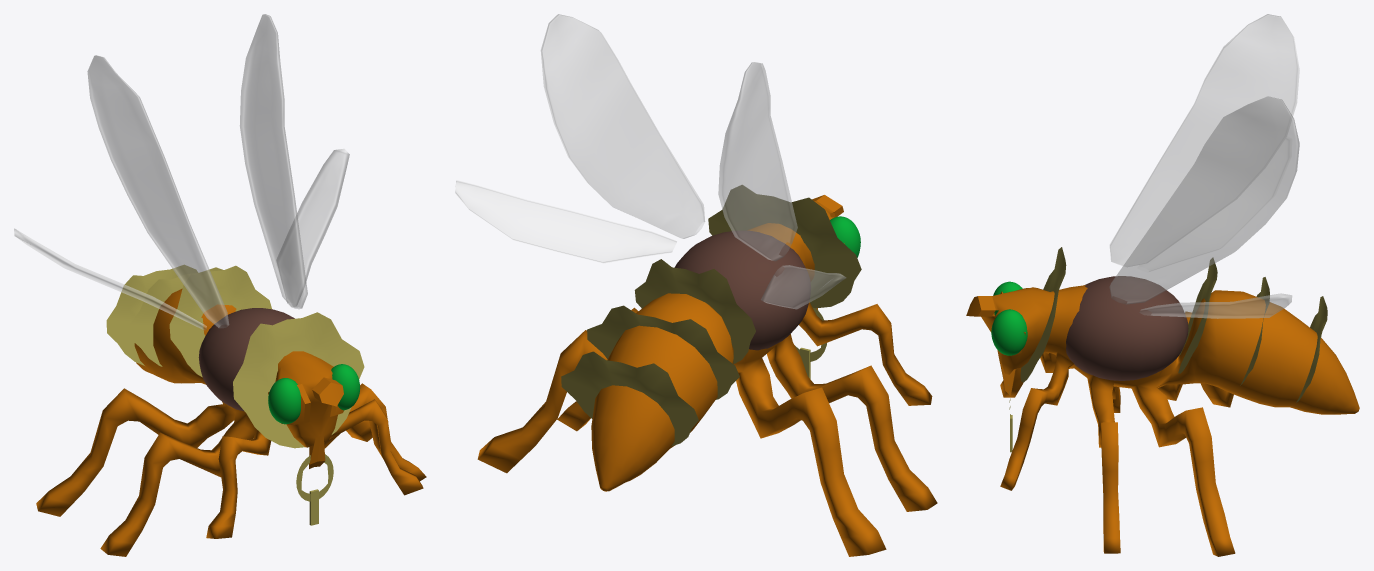
Rendered from Enemybotfly.fbx.
3 views of the same model, side by side, from view 1: azimuth 30°, elevation 25°; view 2: azimuth 150°, elevation 25°; view 3: azimuth 270°, elevation 25° (orthographic). The views are drawn at different scales.
Visible parts, largest first — view 1: pDisc7; view 2: pDisc7; view 3: pDisc7.
Part boxes in pixels (left/top/right/bottom): pDisc7: left=14, top=14, right=426, bottom=556; pDisc7: left=455, top=14, right=937, bottom=556; pDisc7: left=966, top=14, right=1359, bottom=556.
Size of the model in its own units: 6.77 by 7.9 by 6.59.
